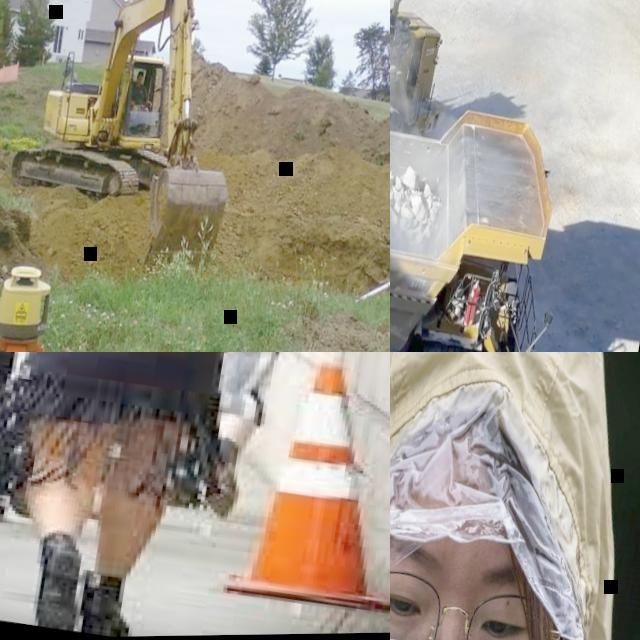Hardhat: (137, 70, 145, 79)
NO-Hardhat: (390, 352, 634, 580)
NO-Mask: (137, 79, 143, 87)
NO-Safety Vest: (129, 84, 147, 106)
Person: (0, 352, 304, 639), (390, 352, 640, 640), (135, 352, 339, 522), (0, 352, 150, 539), (127, 71, 157, 113)
Safety Cone: (230, 352, 390, 619)
machinery: (0, 0, 267, 279), (390, 71, 589, 352), (390, 0, 470, 333)
